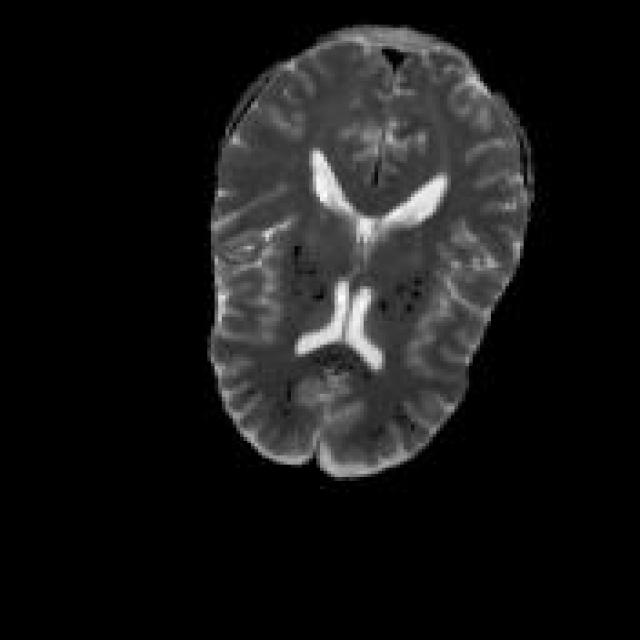CONTROL: (203, 22, 534, 480)
